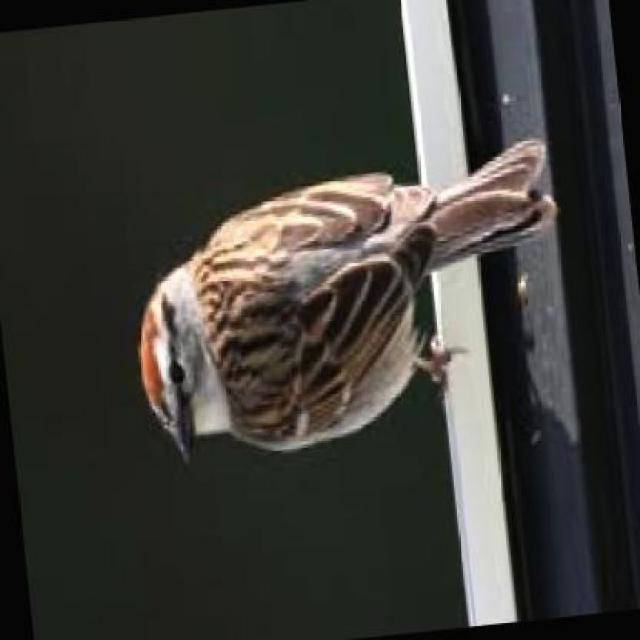Bird: (131, 126, 559, 471)
